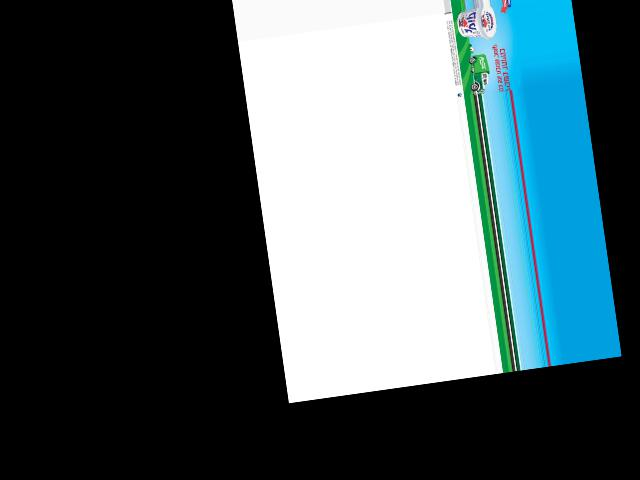cotage: (455, 6, 498, 42)
